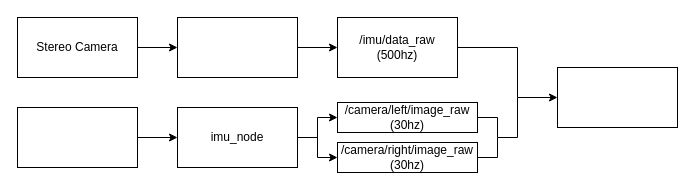
The diagram is 695 pixels wide and 190 high, and some of its shapes have lost their labels. Each missing label, with the centre of its shape:
camera_node: the point at 237,47
IMU: the point at 77,137
OpenVINS Pipeline: the point at 617,97
